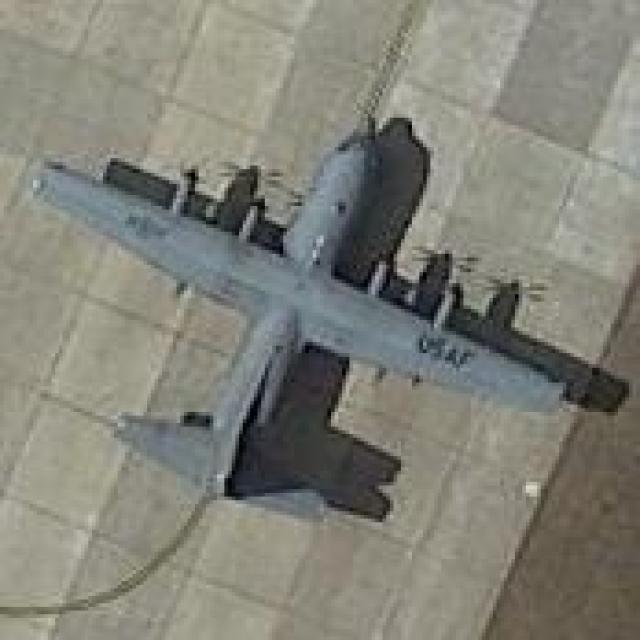C-130_TopDown: (34, 110, 632, 520)
